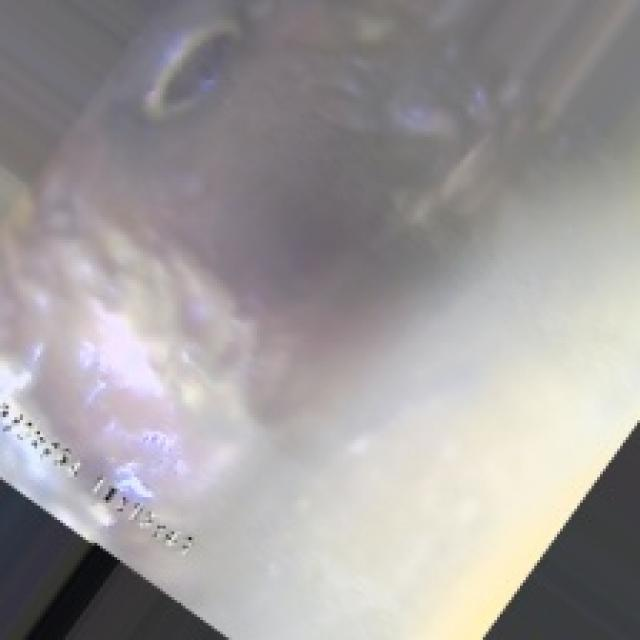encrustation: (126, 20, 263, 111)
